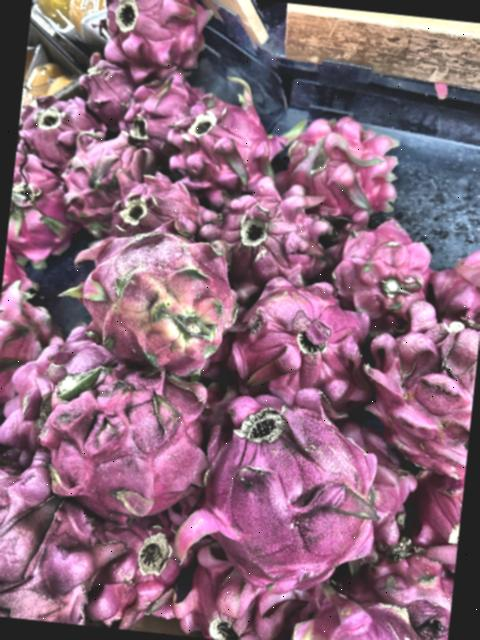buah-naga-belum-matang: (66, 227, 244, 386)
buah-naga-matang: (192, 386, 400, 590), (33, 353, 218, 516), (0, 448, 126, 627), (359, 292, 480, 475), (230, 272, 378, 410), (0, 318, 119, 466), (204, 177, 344, 296), (276, 103, 404, 214), (168, 78, 284, 198), (76, 512, 197, 624), (326, 205, 433, 322), (352, 529, 458, 640), (170, 547, 296, 640), (89, 0, 227, 80), (61, 128, 150, 238), (291, 573, 433, 640), (5, 152, 84, 268), (108, 167, 218, 244), (0, 284, 62, 410), (17, 90, 106, 161), (118, 73, 195, 147), (425, 233, 480, 321), (412, 466, 465, 554), (79, 48, 139, 119)
